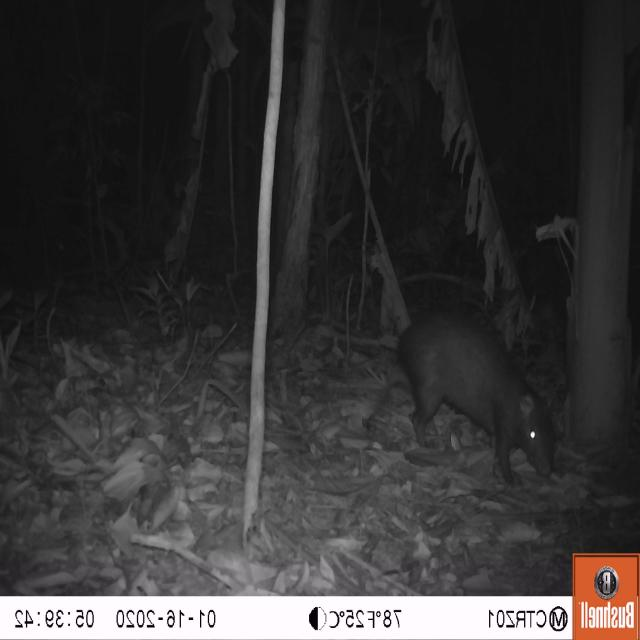Black Agouti: (389, 299, 571, 492)
